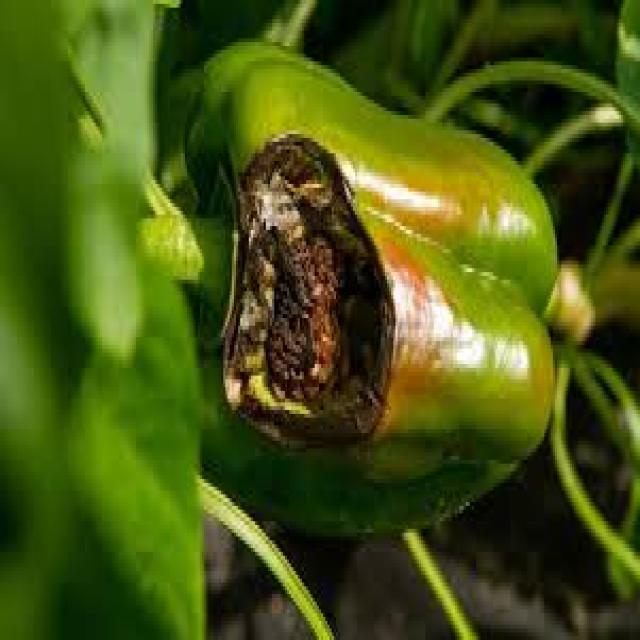Wet Waste: (153, 47, 562, 552)
